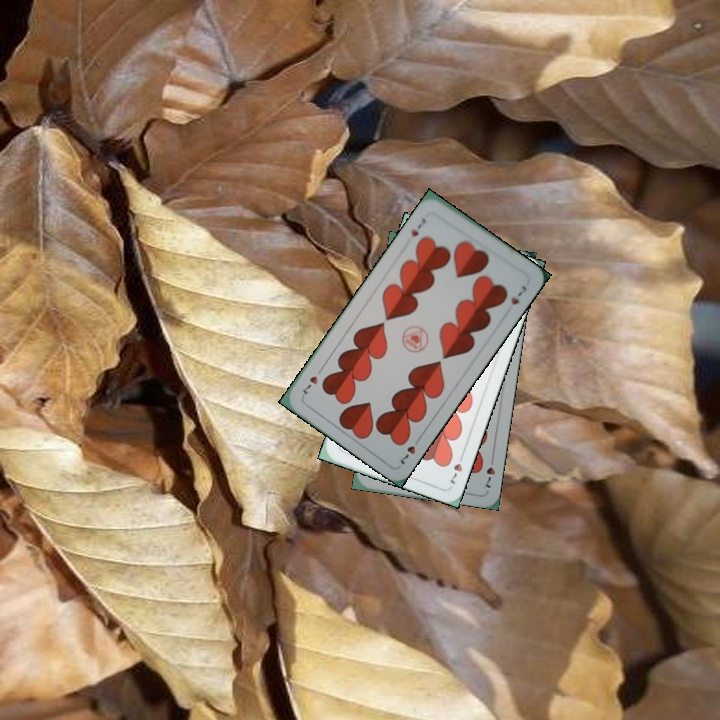H7: (396, 432, 424, 467), (446, 449, 466, 487), (481, 452, 498, 491), (407, 214, 429, 239)
